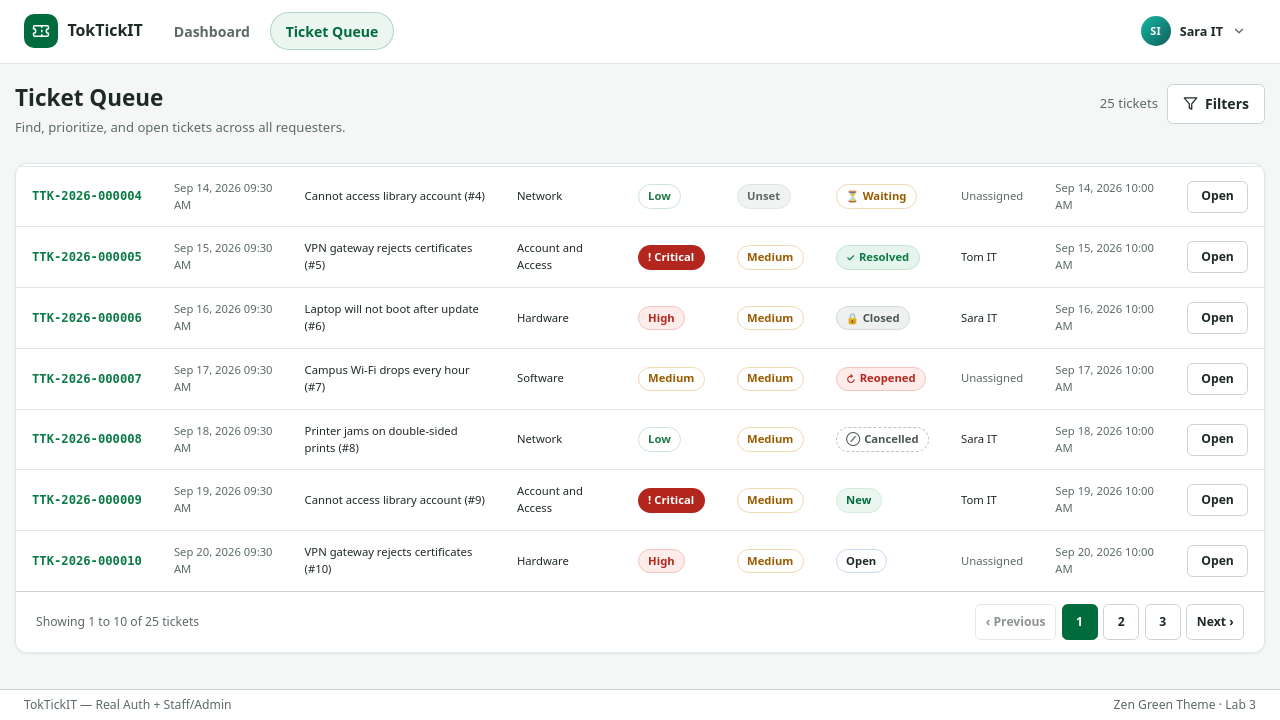
it: T-QUEUE-05d — pagination › 25 tickets span 3 pages at 10/page (My Tickets convention); page 3 disables Next
(page scrolled)
Check: the heading "Ticket Queue" is shown, box [15,82,163,113]
Check: the button "‹ Previous" is disabled, box [975,604,1056,640]
Click the button "2": click(1121, 622) [1103,604,1139,640]
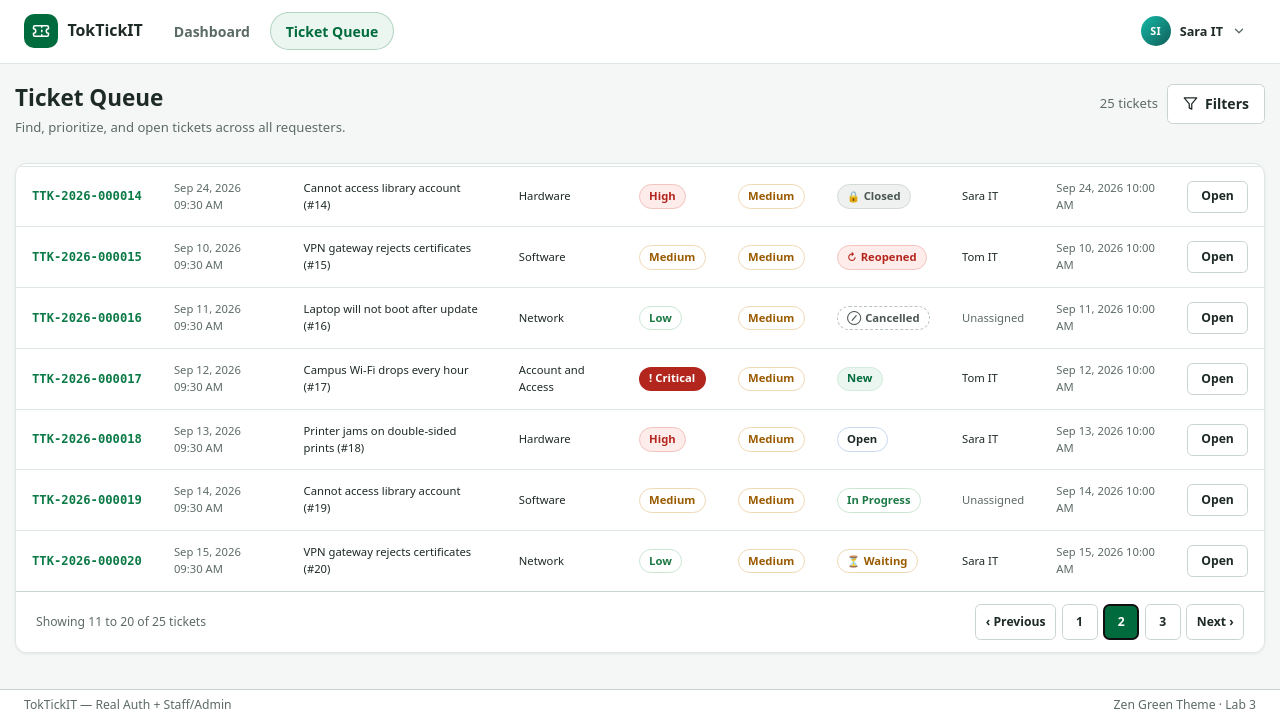
Check: the text "Showing 11 to 20 of 25 tickets" is shown, box [36,613,206,631]
Click the button "3": click(1163, 622) [1145,604,1181,640]
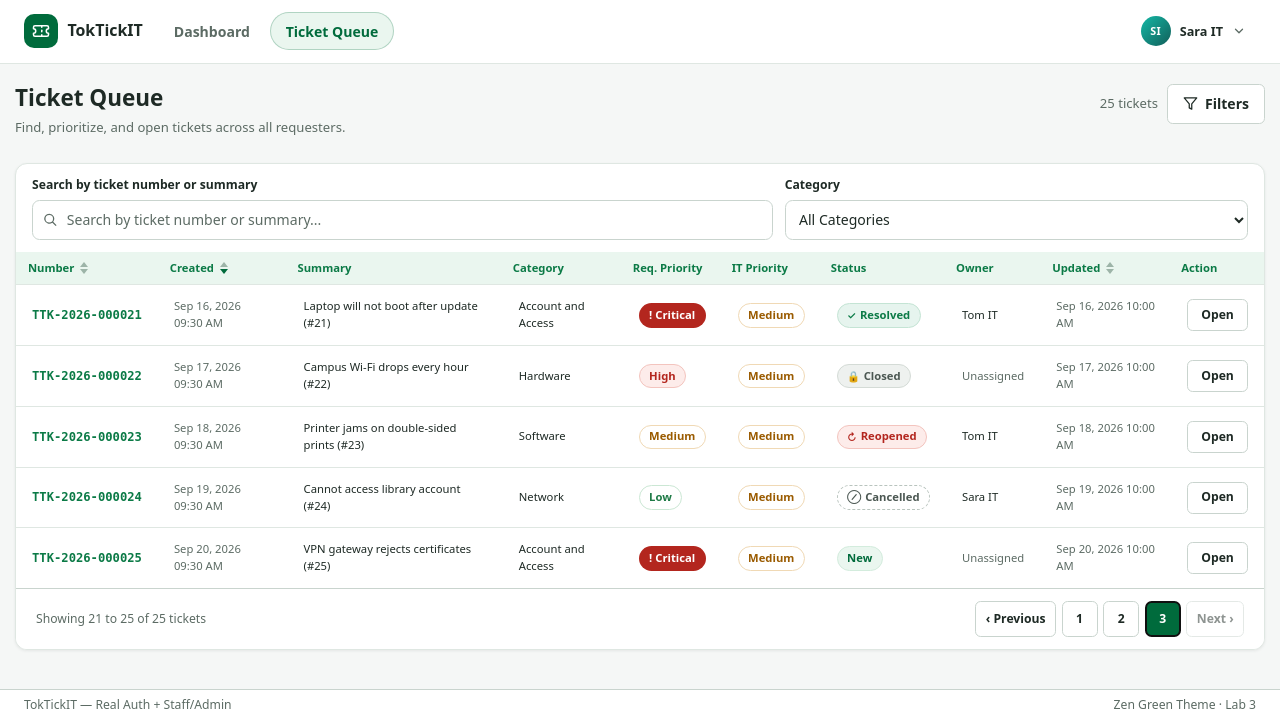
Check: the text "Showing 21 to 25 of 25 tickets" is shown, box [36,610,206,628]
Check: the button "Next ›" is disabled, box [1186,601,1244,637]
